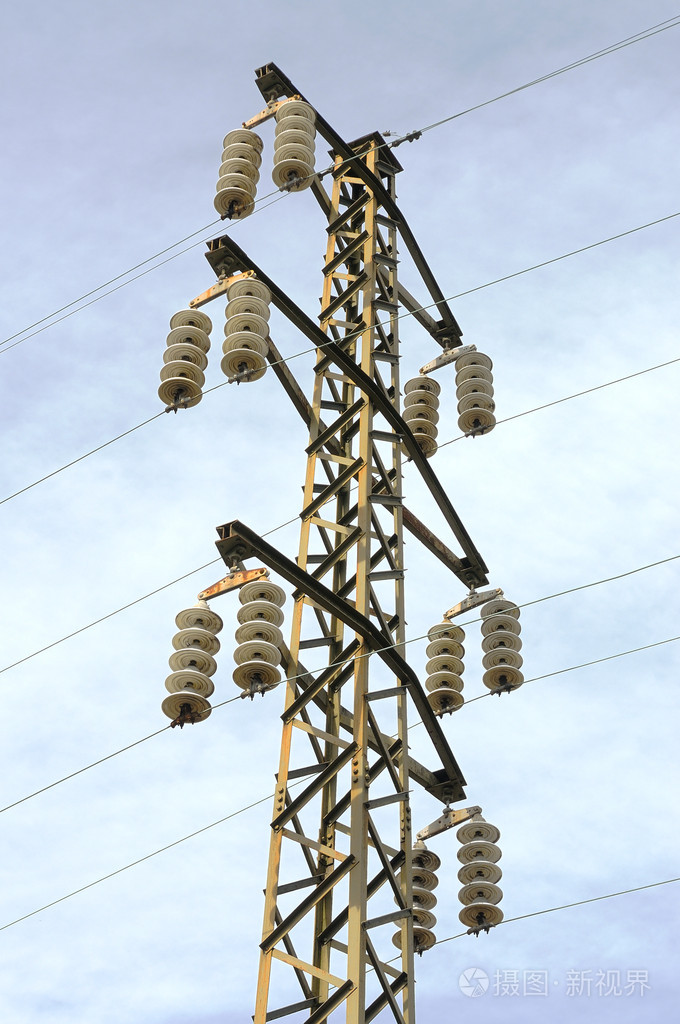insulator: (161, 607, 220, 724), (451, 821, 509, 928), (233, 580, 285, 694), (155, 308, 207, 410), (221, 279, 273, 380), (392, 842, 440, 943), (478, 595, 527, 691), (418, 623, 466, 717), (450, 348, 498, 437), (273, 100, 317, 188), (216, 129, 259, 219), (402, 380, 442, 453)
